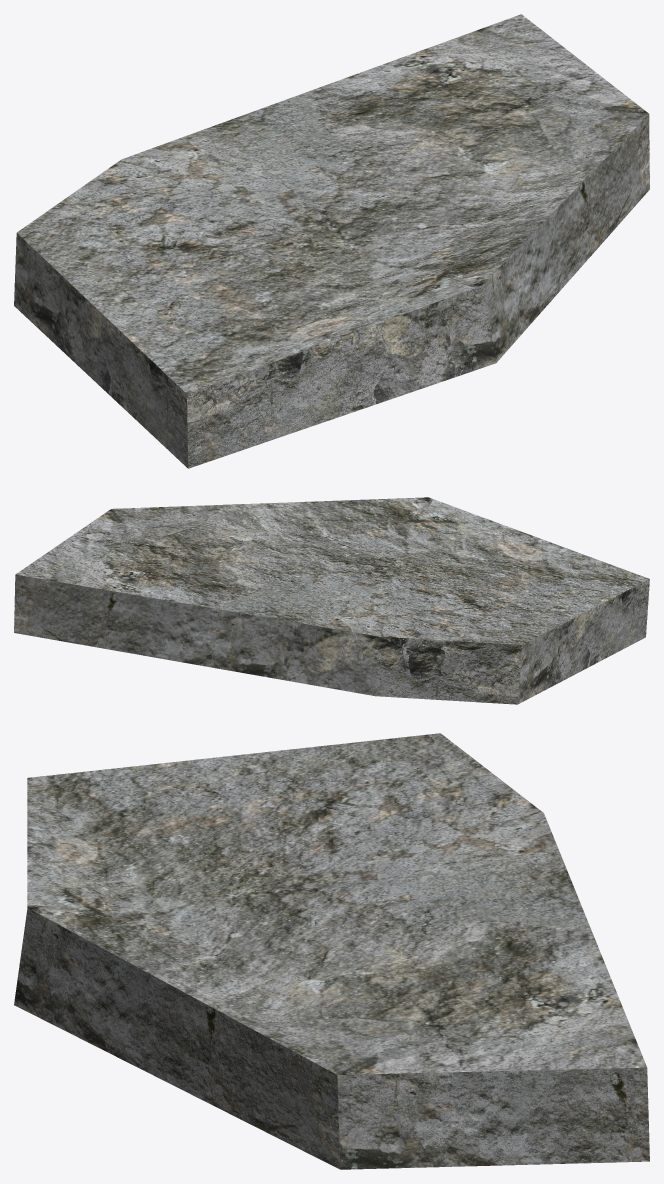
Rendered from UWHoleCorner.fbx.
3 renders of one model, top to bottom at view 1: azimuth 30°, elevation 25°; view 2: azimuth 150°, elevation 25°; view 3: azimuth 270°, elevation 25°, orthographic. The views are drawn at different scales.
Parts seen in each view (by area): view 1: UWHoleCorner; view 2: UWHoleCorner; view 3: UWHoleCorner.
Part boxes in pixels (bbox=[...]): UWHoleCorner: bbox=[14, 14, 649, 468]; UWHoleCorner: bbox=[14, 497, 649, 704]; UWHoleCorner: bbox=[14, 733, 649, 1169].
Size of the model in its own units: 401 by 81.66 by 308.
